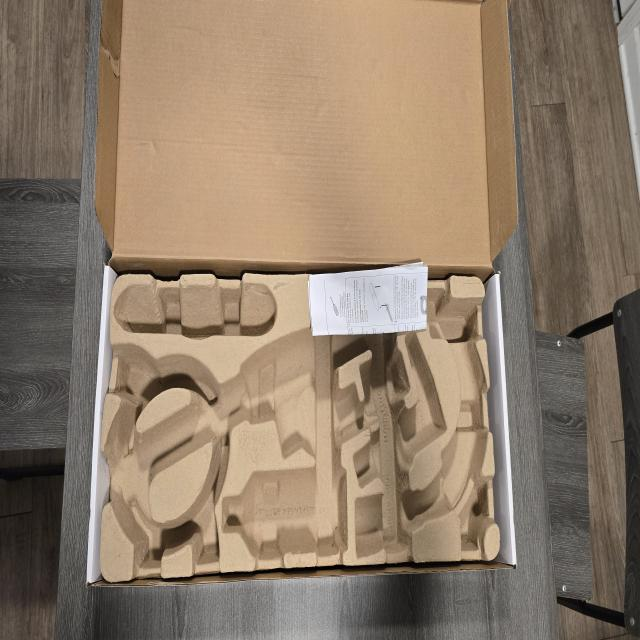1m: (105, 290, 491, 555)
2m: (352, 327, 446, 487)
3m: (223, 470, 347, 556)
4m: (113, 285, 276, 338)
5m: (118, 347, 160, 408)
6m: (113, 498, 172, 568)
7m: (185, 464, 225, 567)
8: (308, 260, 428, 338)
